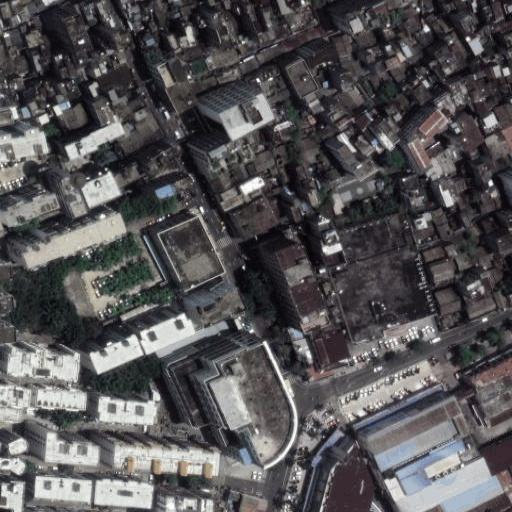building: (313, 211, 437, 348), (208, 343, 298, 471), (172, 333, 266, 447), (382, 433, 493, 512), (357, 392, 460, 471), (24, 214, 128, 271), (156, 215, 226, 293), (310, 434, 374, 512), (275, 245, 331, 333), (299, 429, 349, 512), (354, 386, 442, 433), (421, 476, 512, 512), (114, 446, 219, 477), (51, 259, 100, 324), (398, 105, 445, 170), (470, 357, 512, 424), (200, 80, 256, 127), (135, 312, 194, 355), (8, 346, 80, 380), (304, 321, 351, 369), (229, 195, 278, 240), (89, 334, 144, 374), (3, 192, 61, 228), (197, 289, 246, 328), (331, 30, 367, 82), (279, 56, 320, 100), (45, 431, 98, 465), (311, 217, 346, 268), (473, 162, 505, 217), (92, 478, 152, 507), (343, 2, 391, 38), (119, 116, 162, 156), (136, 142, 183, 178), (313, 59, 354, 100), (255, 68, 294, 111), (65, 16, 98, 66), (100, 396, 154, 425), (80, 171, 121, 209), (53, 93, 91, 134), (28, 385, 87, 411), (35, 477, 93, 503), (423, 145, 462, 183), (0, 129, 46, 161), (185, 126, 225, 162), (232, 127, 270, 163), (439, 175, 474, 214), (59, 174, 90, 218), (288, 327, 317, 374), (480, 436, 512, 478), (25, 76, 61, 113), (433, 39, 468, 77), (143, 234, 171, 280), (263, 184, 294, 224), (279, 26, 322, 54), (450, 116, 483, 152), (428, 256, 464, 289), (0, 437, 29, 476), (209, 12, 239, 49), (155, 176, 196, 203), (119, 297, 163, 322), (237, 172, 272, 203), (305, 42, 341, 72), (260, 117, 296, 147), (295, 165, 320, 208), (166, 79, 198, 112), (242, 150, 278, 179), (294, 134, 322, 171), (118, 96, 151, 127), (284, 5, 318, 35), (98, 64, 133, 93), (397, 30, 424, 67), (156, 57, 187, 88), (464, 270, 496, 300), (7, 45, 38, 75), (336, 84, 367, 114), (91, 96, 119, 129), (408, 212, 438, 242), (364, 60, 393, 91), (111, 161, 144, 188), (204, 44, 238, 70), (30, 39, 57, 71), (382, 53, 409, 85), (466, 292, 498, 319), (455, 245, 488, 271), (90, 122, 124, 147), (216, 185, 246, 213), (402, 175, 427, 208), (102, 27, 131, 55), (484, 130, 511, 160), (456, 205, 482, 236), (0, 480, 25, 512), (65, 136, 97, 161), (258, 23, 292, 46), (428, 8, 454, 38), (318, 152, 343, 183), (165, 496, 212, 512), (434, 88, 459, 118), (430, 207, 452, 241), (253, 44, 284, 68), (334, 124, 358, 155), (404, 79, 432, 105), (1, 28, 30, 53), (358, 42, 387, 67), (320, 94, 345, 123), (265, 163, 292, 189), (6, 73, 30, 102), (213, 63, 242, 87), (301, 88, 325, 117), (372, 124, 396, 152), (450, 81, 473, 110), (248, 3, 269, 34), (412, 24, 437, 50), (269, 140, 294, 166), (352, 28, 379, 52), (354, 107, 381, 131), (475, 94, 502, 118), (422, 243, 449, 267), (0, 285, 14, 330), (54, 76, 80, 100), (352, 157, 378, 181), (475, 77, 502, 100), (190, 74, 218, 96), (363, 127, 385, 154), (237, 493, 268, 512), (24, 21, 48, 45), (417, 65, 440, 90), (379, 119, 401, 145), (54, 52, 74, 80), (477, 252, 505, 272), (152, 7, 175, 31), (373, 20, 397, 43), (423, 134, 445, 159), (178, 23, 198, 50), (182, 42, 209, 62), (214, 169, 237, 192), (278, 0, 311, 16), (380, 35, 404, 57), (354, 133, 376, 157), (338, 144, 359, 169), (260, 4, 280, 30), (233, 34, 255, 57), (289, 200, 311, 223), (480, 113, 502, 136), (494, 102, 512, 129), (174, 1, 198, 21), (236, 56, 259, 76), (477, 22, 497, 45), (490, 15, 512, 35), (398, 15, 421, 34), (468, 59, 487, 82), (493, 230, 512, 253), (0, 78, 15, 107), (143, 45, 164, 65), (488, 0, 508, 21), (230, 163, 250, 184), (460, 15, 479, 37), (429, 58, 447, 81), (108, 49, 128, 69), (89, 57, 108, 78), (319, 122, 339, 141), (483, 61, 502, 81), (108, 88, 129, 106), (478, 217, 500, 234), (32, 109, 52, 127), (138, 31, 156, 51), (332, 114, 352, 132), (385, 103, 403, 122), (501, 247, 512, 278), (468, 36, 485, 56), (129, 17, 148, 34), (166, 33, 182, 53), (492, 289, 508, 309), (192, 11, 208, 30), (496, 75, 511, 95), (0, 258, 13, 281), (488, 267, 504, 285), (444, 242, 460, 259), (462, 73, 477, 91), (386, 116, 400, 134), (503, 31, 512, 59), (502, 125, 512, 150), (401, 4, 416, 19), (468, 88, 482, 104), (146, 18, 159, 34), (502, 66, 512, 86), (467, 146, 481, 160), (21, 104, 35, 117), (228, 490, 242, 503), (7, 14, 21, 26), (256, 0, 276, 8), (89, 83, 99, 98), (203, 0, 221, 7), (503, 0, 512, 13), (507, 293, 512, 309), (507, 11, 512, 25)
